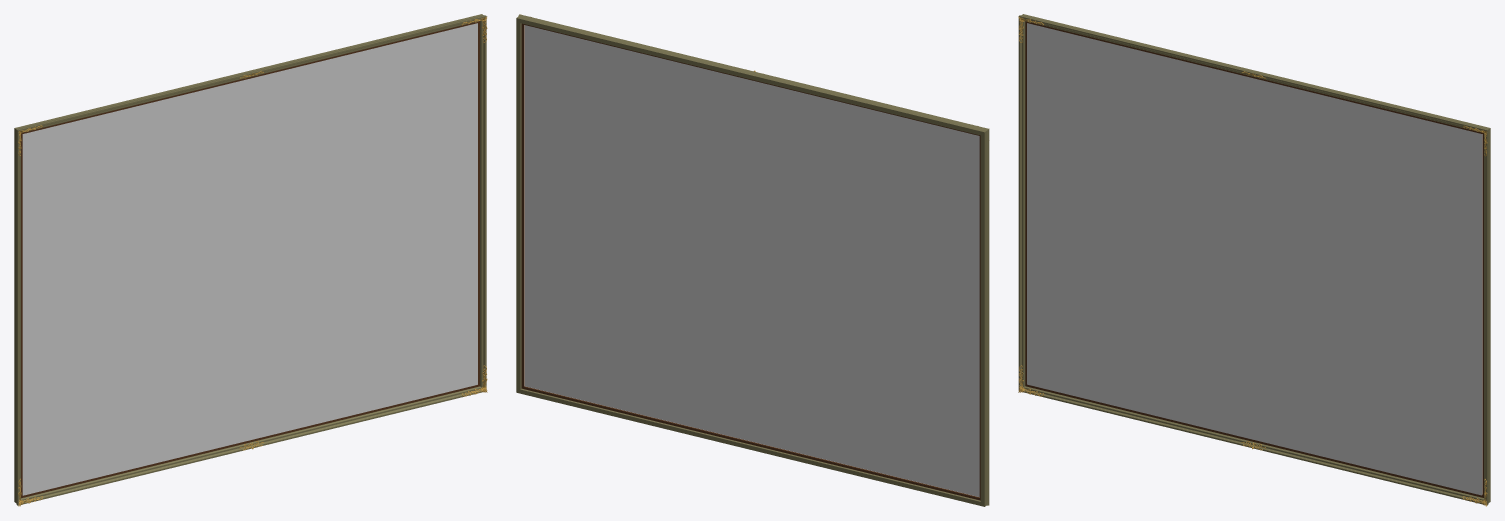
Rendered from frame001_l.glb.
3 views of the same model, side by side, from view 1: azimuth 30°, elevation 25°; view 2: azimuth 150°, elevation 25°; view 3: azimuth 330°, elevation 25° (orthographic).
Visible parts, largest first — view 1: canvas_平面, frame_Cube.003, frame_inner_Cube.001, moyou001_Lines.001; view 2: canvas_平面, frame_Cube.003, frame_inner_Cube.001; view 3: canvas_平面, frame_Cube.003, frame_inner_Cube.001, moyou001_Lines.001.
Boxes of the visible parts, <box> form: canvas_平面: <box>22,23,477,495</box>; frame_Cube.003: <box>14,14,486,505</box>; frame_inner_Cube.001: <box>21,21,479,498</box>; moyou001_Lines.001: <box>18,17,487,505</box>; canvas_平面: <box>525,25,979,496</box>; frame_Cube.003: <box>516,14,989,506</box>; frame_inner_Cube.001: <box>521,23,980,500</box>; canvas_平面: <box>1027,23,1481,495</box>; frame_Cube.003: <box>1018,14,1490,505</box>; frame_inner_Cube.001: <box>1025,21,1483,497</box>; moyou001_Lines.001: <box>1018,17,1487,505</box>.
Bounding box in the file's own units: 45.37 × 34.82 × 0.783.
